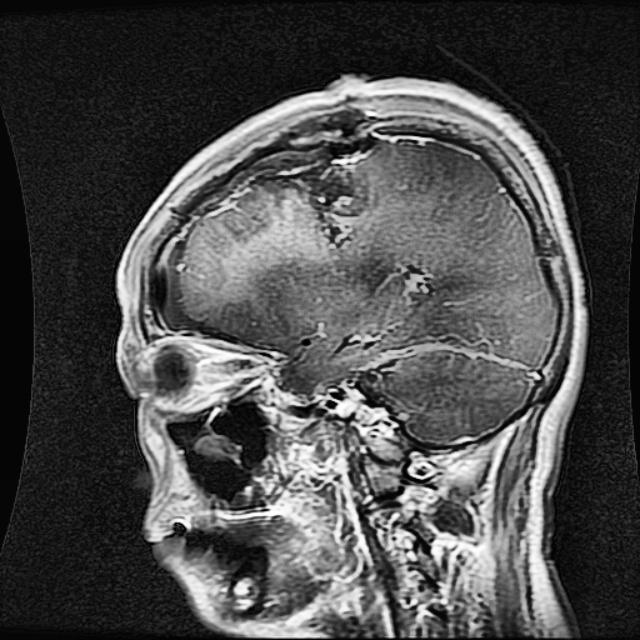Meningioma: (237, 144, 374, 245)
